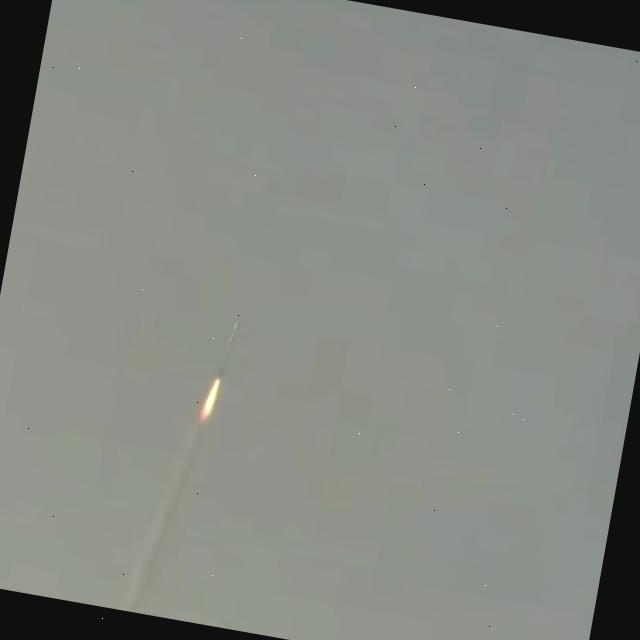smoke_trail_with_rocket: (120, 322, 239, 613)
